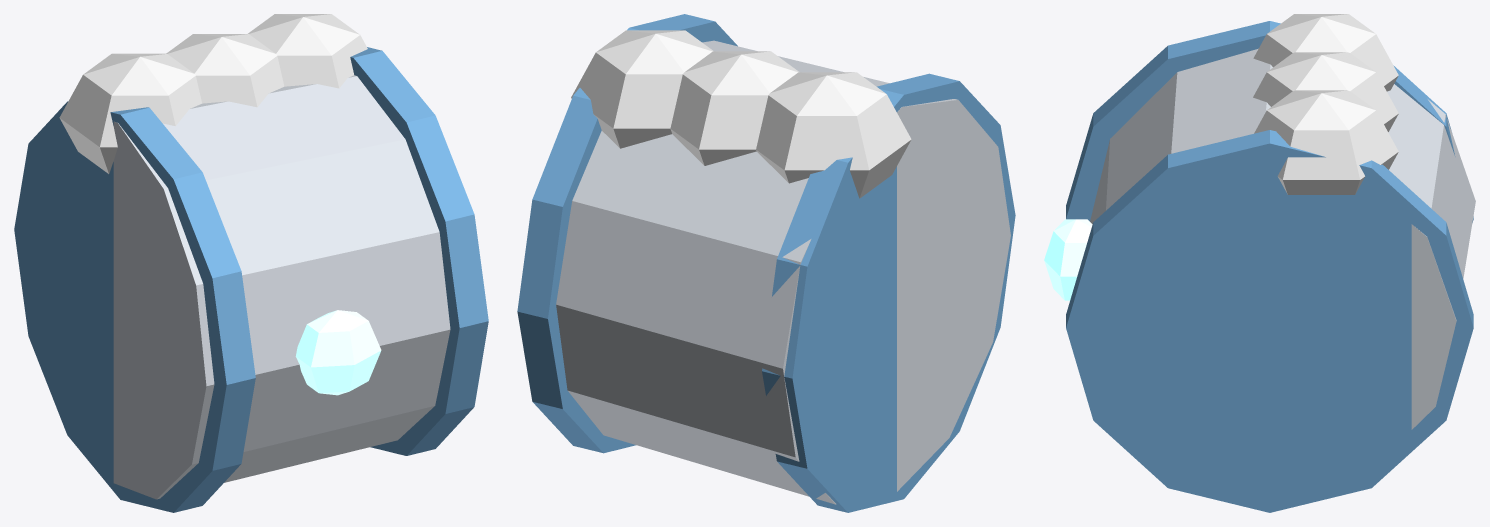
File: cloud_giant_bracer_l.glb
The picture shows the model from 3 angles, left to right: view 1: azimuth 30°, elevation 25°; view 2: azimuth 150°, elevation 25°; view 3: azimuth 270°, elevation 25°; orthographic projection. The views are drawn at different scales.
Parts seen in each view (by area): view 1: cloud_giant_bracer_l; view 2: cloud_giant_bracer_l; view 3: cloud_giant_bracer_l.
Boxes of the visible parts, x1,y1,x2,y2 form: cloud_giant_bracer_l: [14, 14, 488, 512]; cloud_giant_bracer_l: [517, 14, 1015, 512]; cloud_giant_bracer_l: [1044, 14, 1475, 512].
Size of the model in its own units: 0.2439 by 0.338 by 0.3347.
